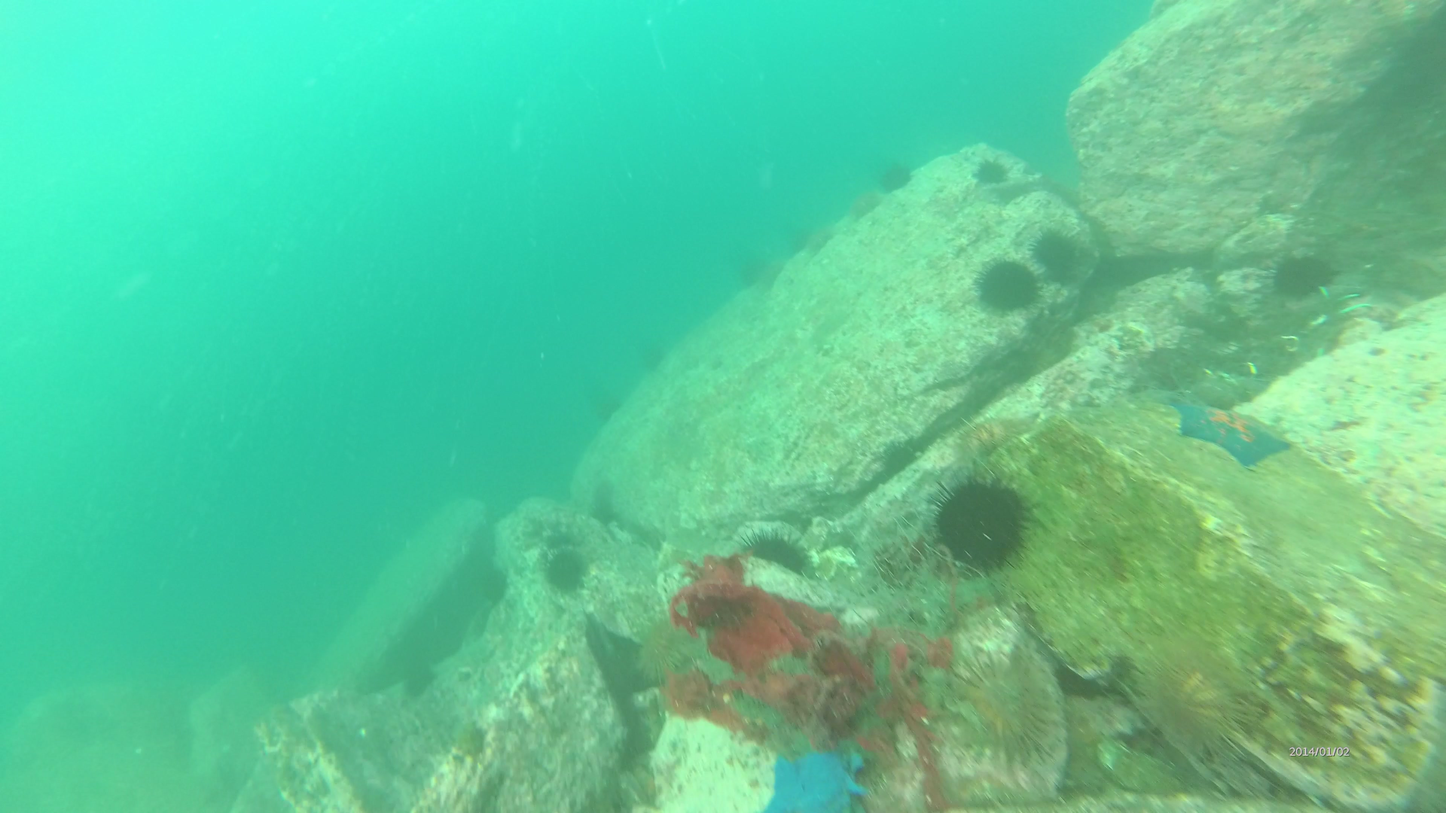holothurian: (1173, 393, 1293, 469)
starfish: (948, 643, 1063, 767), (925, 475, 1038, 577), (971, 255, 1047, 321), (738, 525, 814, 588), (1027, 224, 1098, 285), (1273, 252, 1336, 304), (540, 543, 595, 594), (399, 656, 445, 702), (630, 333, 677, 377), (729, 249, 778, 288), (969, 153, 1017, 191), (588, 389, 633, 426), (878, 155, 917, 196), (786, 220, 825, 251)
